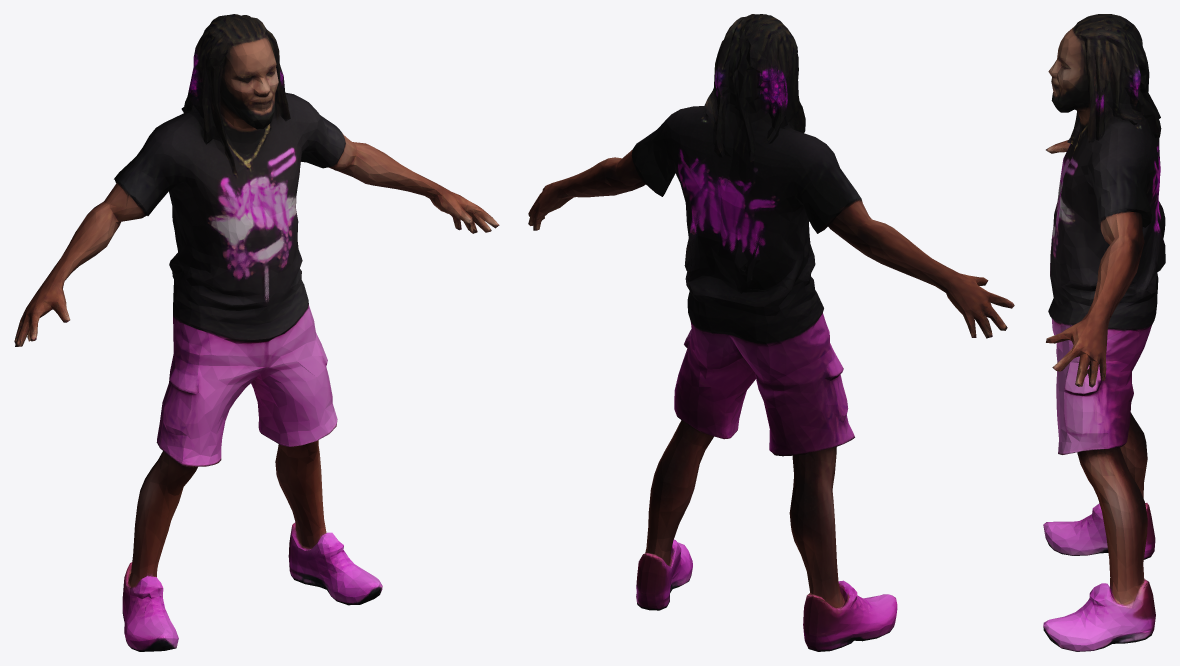
The model's file is BigNate.glb.
The picture shows the model from 3 angles, left to right: view 1: azimuth 30°, elevation 25°; view 2: azimuth 150°, elevation 25°; view 3: azimuth 270°, elevation 25°; orthographic projection. The views are drawn at different scales.
Visible parts, largest first — view 1: world; view 2: world; view 3: world.
Boxes of the visible parts, bbox=[...] form: world: bbox=[14, 14, 499, 651]; world: bbox=[528, 14, 1014, 651]; world: bbox=[1043, 14, 1165, 651].
Size of the model in its own units: 0.8402 by 0.9991 by 0.1925.
1 material, 1 textured.
